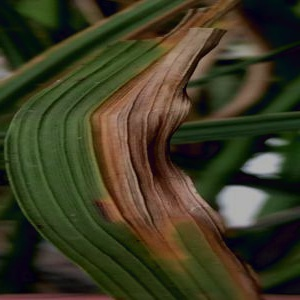Leaf_Blast: (21, 46, 199, 269)
